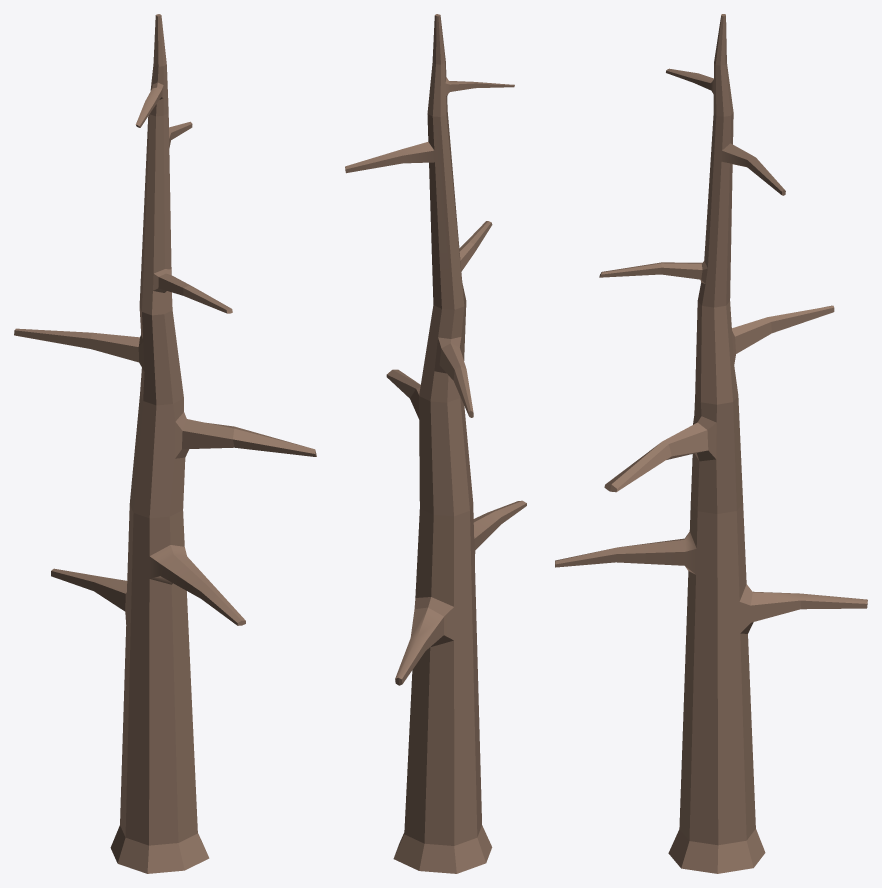
The model's file is Pine_Trees_Pack_Tree_stem_01.008.fbx.
The picture shows the model from 3 angles, left to right: view 1: azimuth 30°, elevation 25°; view 2: azimuth 150°, elevation 25°; view 3: azimuth 270°, elevation 25°; orthographic projection.
Visible parts, largest first — view 1: Pine_Trees_Pack_Tree_stem_01.008; view 2: Pine_Trees_Pack_Tree_stem_01.008; view 3: Pine_Trees_Pack_Tree_stem_01.008.
Boxes of the visible parts, x1,y1,x2,y2 form: Pine_Trees_Pack_Tree_stem_01.008: (14, 14, 316, 873); Pine_Trees_Pack_Tree_stem_01.008: (345, 14, 526, 873); Pine_Trees_Pack_Tree_stem_01.008: (555, 14, 867, 873).
Size of the model in its own units: 151 by 619 by 209.
